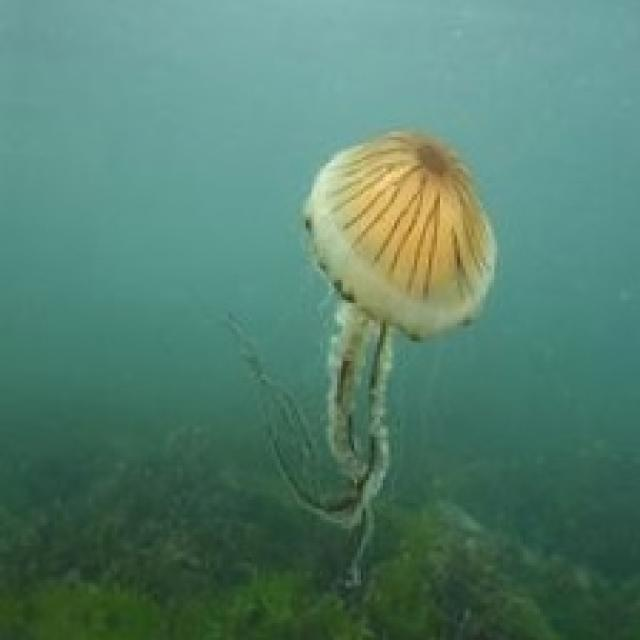Box-jellyfish: (226, 126, 497, 594)
